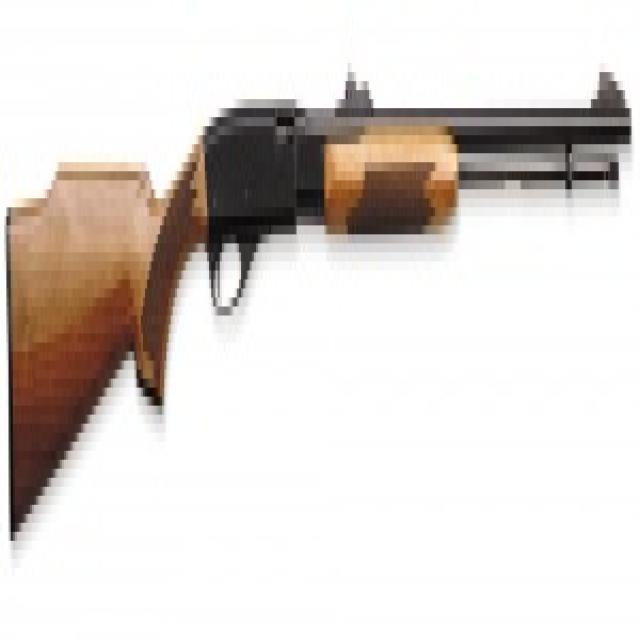rifle: (1, 38, 639, 564)
